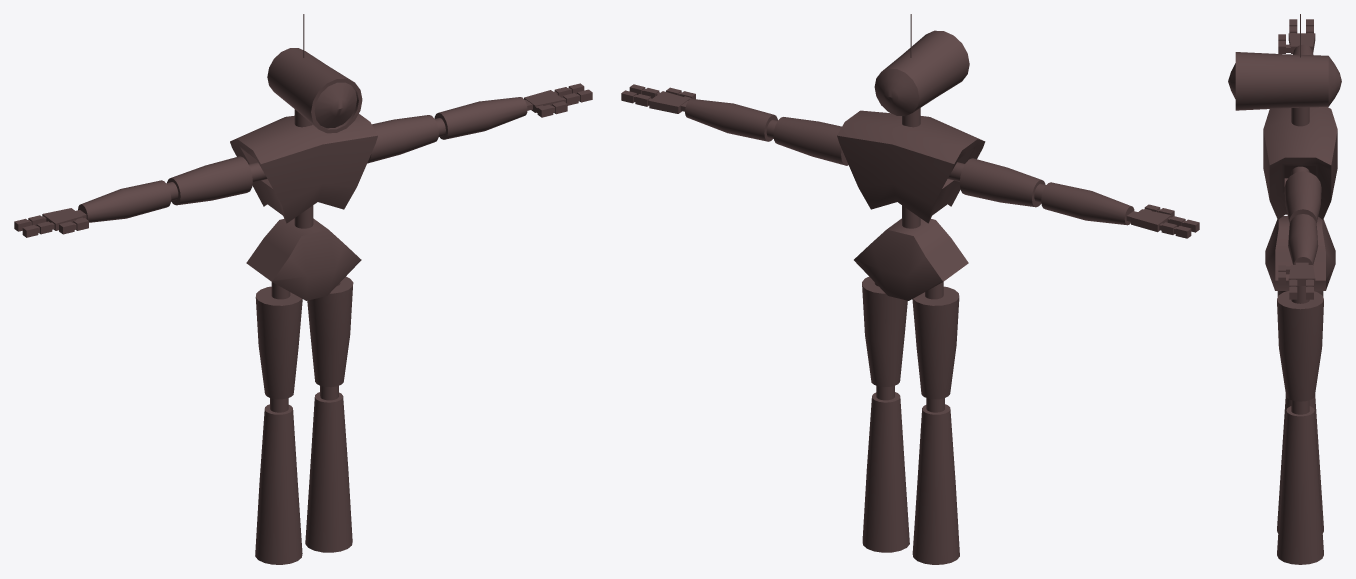
Rendered from Robot_Normal_Melee_Final01.fbx.
3 renders of one model, left to right at view 1: azimuth 30°, elevation 25°; view 2: azimuth 150°, elevation 25°; view 3: azimuth 270°, elevation 25°, orthographic.
Parts seen in each view (by area): view 1: Torso, Pantorilla_Left, Pantorilla_RIght, Cadera, Cabeza, Muslo_RIght, Muslo_Left, Antebrazo_Right, Brazo_Right, Brazo_Left, Antebrazo_Left; view 2: Torso, Pantorilla_Left, Pantorilla_RIght, Cadera, Cabeza, Muslo_RIght, Muslo_Left, Antebrazo_Right, Brazo_Right, Brazo_Left, Antebrazo_Left; view 3: Pantorilla_Left, Cabeza, Torso, Muslo_Left, Cadera, Antebrazo_Left, Brazo_Left, Pantorilla_RIght, Palma_Left, Palma_Right, Cuello, Rodilla_Left (+2 smaller).
Part boxes in pixels (bbox=[...]): Torso: bbox=[230, 114, 377, 223]; Pantorilla_Left: bbox=[305, 392, 352, 552]; Pantorilla_RIght: bbox=[255, 404, 302, 564]; Cadera: bbox=[246, 218, 361, 300]; Cabeza: bbox=[267, 48, 362, 133]; Muslo_RIght: bbox=[255, 286, 302, 399]; Muslo_Left: bbox=[307, 276, 353, 387]; Antebrazo_Right: bbox=[167, 156, 252, 205]; Brazo_Right: bbox=[78, 180, 171, 222]; Brazo_Left: bbox=[434, 97, 527, 139]; Antebrazo_Left: bbox=[367, 115, 438, 163]; Torso: bbox=[837, 110, 985, 223]; Pantorilla_Left: bbox=[862, 392, 909, 552]; Pantorilla_RIght: bbox=[912, 404, 959, 564]; Cadera: bbox=[854, 218, 968, 300]; Cabeza: bbox=[874, 30, 969, 116]; Muslo_RIght: bbox=[912, 286, 959, 399]; Muslo_Left: bbox=[862, 276, 907, 387]; Antebrazo_Right: bbox=[959, 158, 1045, 207]; Brazo_Right: bbox=[1041, 182, 1134, 225]; Brazo_Left: bbox=[685, 99, 777, 141]; Antebrazo_Left: bbox=[773, 117, 848, 165]; Pantorilla_Left: bbox=[1277, 406, 1323, 564]; Cabeza: bbox=[1228, 52, 1341, 110]; Torso: bbox=[1263, 107, 1337, 219]; Muslo_Left: bbox=[1277, 291, 1323, 401]; Cadera: bbox=[1265, 216, 1335, 290]; Antebrazo_Left: bbox=[1284, 171, 1321, 223]; Brazo_Left: bbox=[1288, 214, 1318, 264]; Pantorilla_RIght: bbox=[1277, 394, 1323, 533]; Palma_Left: bbox=[1288, 265, 1315, 285]; Palma_Right: bbox=[1288, 33, 1315, 53]; Cuello: bbox=[1291, 107, 1309, 126]; Rodilla_Left: bbox=[1291, 400, 1309, 414].
Bounding box in the file's own units: 2.43 × 2.19 × 0.4284.
